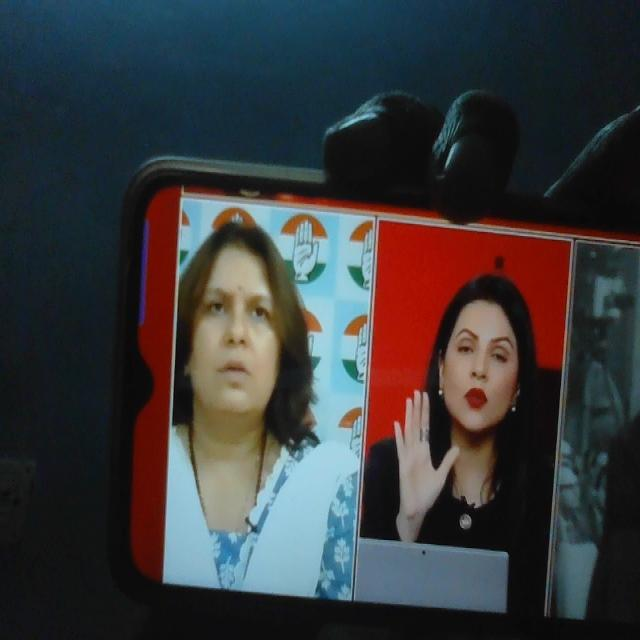fake: (176, 207, 293, 428), (431, 244, 539, 448)
